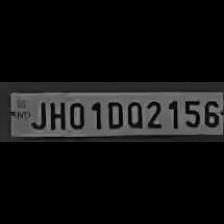0: (66, 98, 86, 130)
1: (86, 98, 104, 130), (162, 97, 180, 128)
2: (143, 97, 163, 128)
5: (180, 96, 200, 128)
6: (200, 98, 222, 128)
D: (104, 97, 124, 128)
H: (46, 98, 66, 130)
J: (28, 98, 46, 130)
Q: (124, 97, 144, 128)
